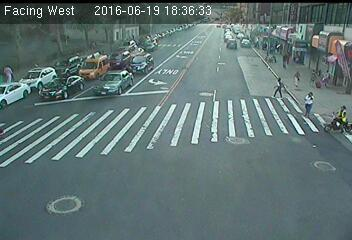neg: (18, 162, 42, 193), (328, 100, 351, 132), (272, 188, 291, 212), (173, 193, 191, 217), (199, 193, 217, 217), (307, 171, 325, 195), (176, 56, 192, 78), (233, 200, 249, 221), (212, 118, 227, 139), (184, 144, 199, 164), (272, 148, 287, 168), (33, 57, 48, 76), (224, 86, 238, 105), (138, 194, 152, 213), (125, 10, 138, 29), (140, 95, 153, 112), (141, 154, 154, 171), (21, 7, 34, 24), (56, 143, 68, 160), (71, 92, 83, 108), (67, 192, 79, 208), (171, 107, 183, 122), (121, 124, 133, 139), (138, 51, 149, 66), (190, 83, 201, 98), (90, 14, 101, 29), (155, 10, 166, 24), (19, 129, 30, 143), (57, 11, 67, 24), (104, 202, 114, 215), (88, 123, 97, 136), (101, 71, 110, 83), (90, 157, 99, 169), (38, 105, 46, 116), (225, 164, 232, 173), (256, 117, 263, 126)
pos: (266, 73, 287, 100), (300, 90, 318, 115), (304, 66, 321, 88), (1, 62, 15, 83), (320, 67, 335, 86), (290, 68, 304, 87)
